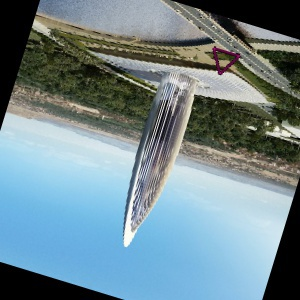triangle: (211, 43, 241, 76)
